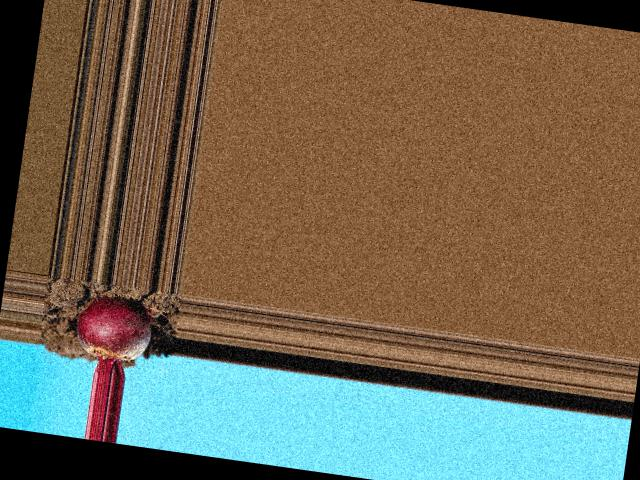beet: (71, 292, 156, 380)
